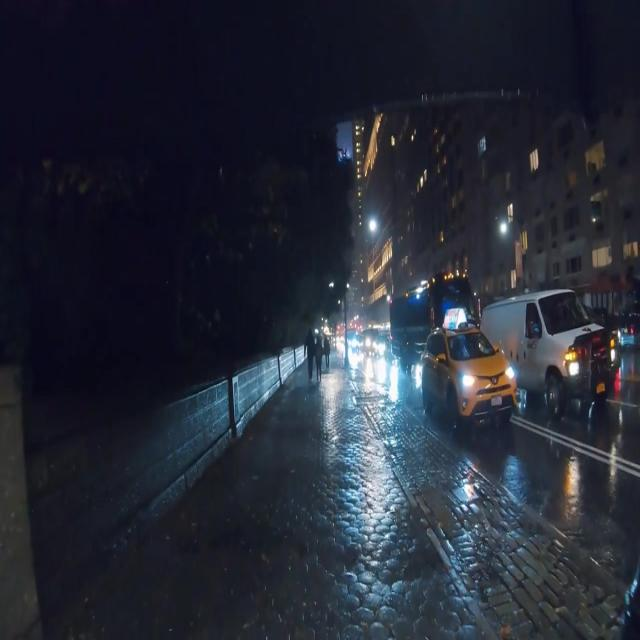Car: (422, 326, 519, 428)
